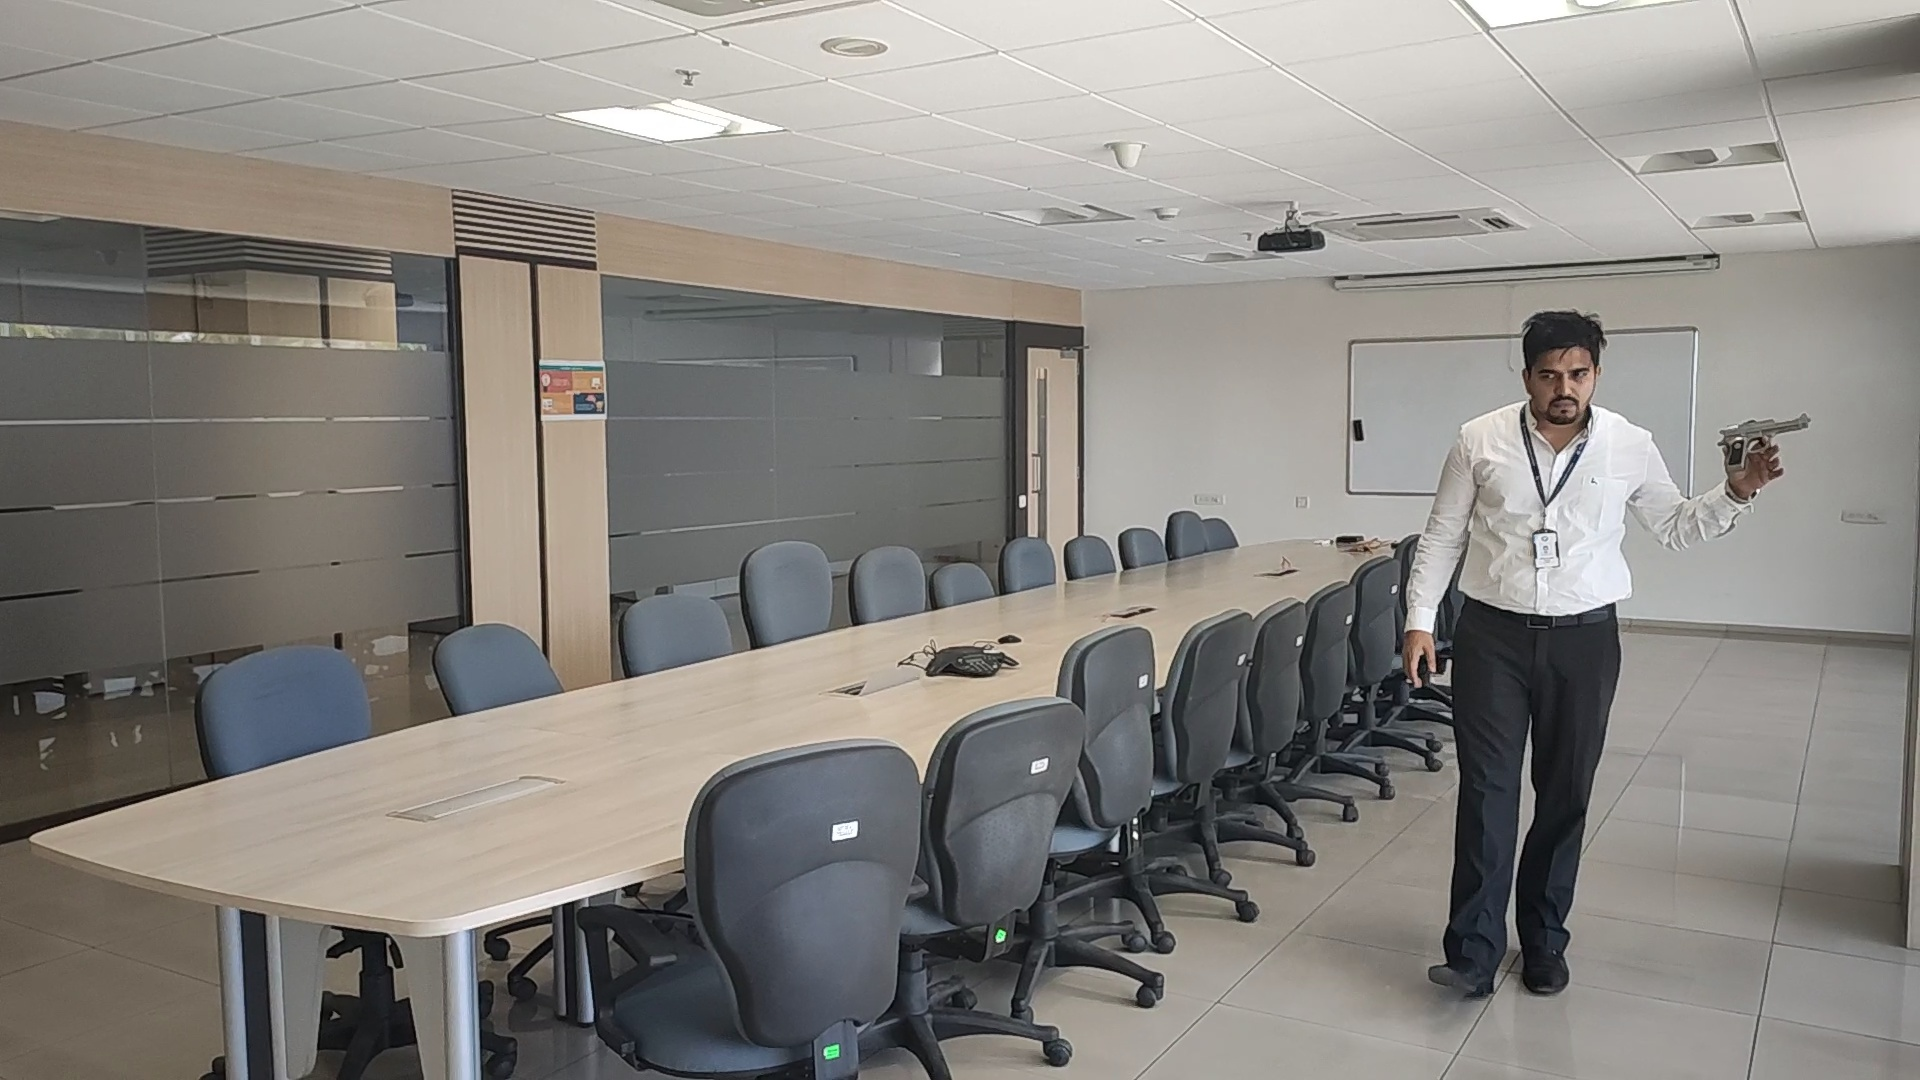gun: (1717, 411, 1812, 446)
